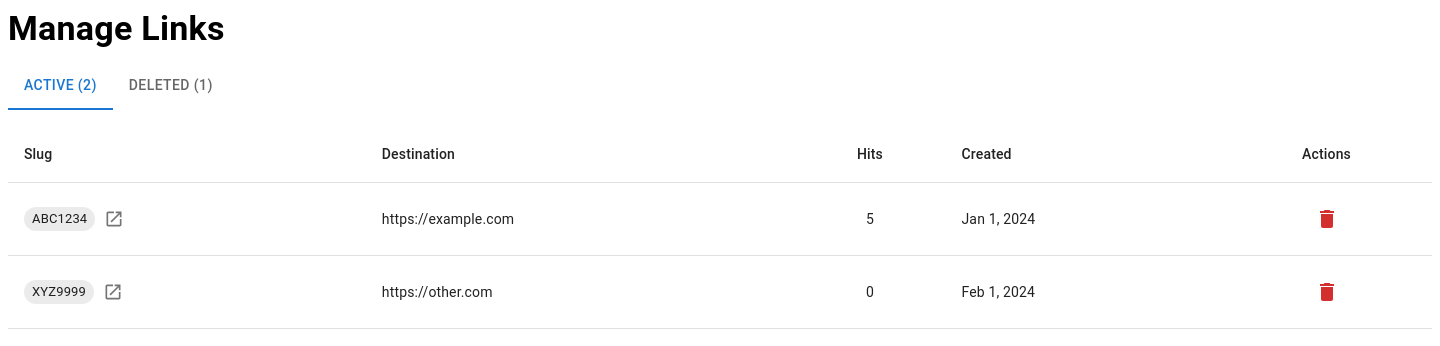
Test case: List page › switches to deleted tab and shows deleted links
Check: the text "ABC1234" is shown, box [32,211,87,226]
Click the tab "Deleted (1)" at point(171, 86), box [113,62,229,110]
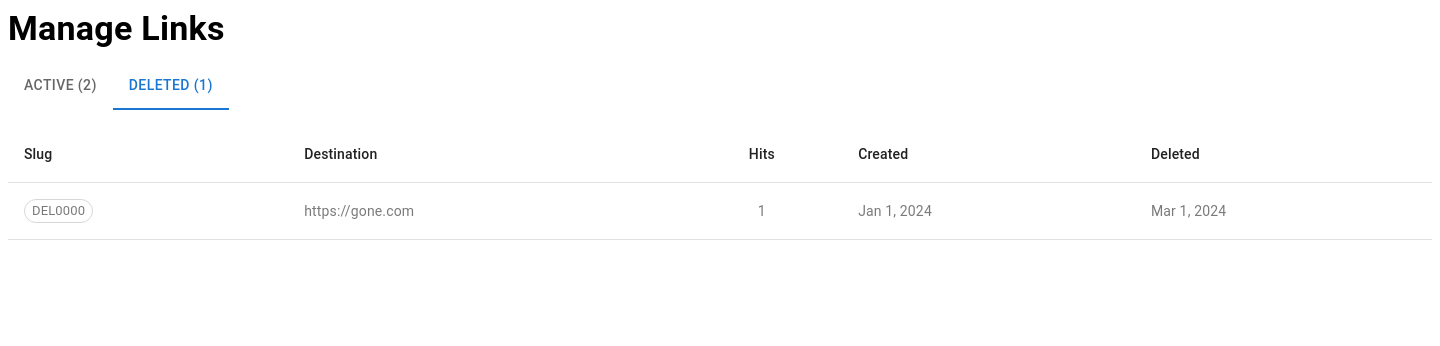
Check: the text "DEL0000" is shown, box [32,203,85,218]
